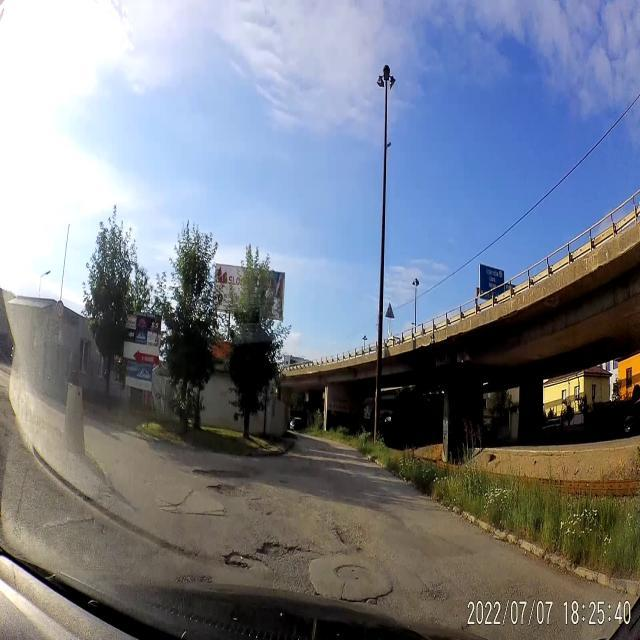Manhole: (333, 564, 372, 588)
Pothole: (220, 540, 310, 578), (185, 458, 256, 480), (328, 520, 368, 552), (208, 483, 249, 508)
